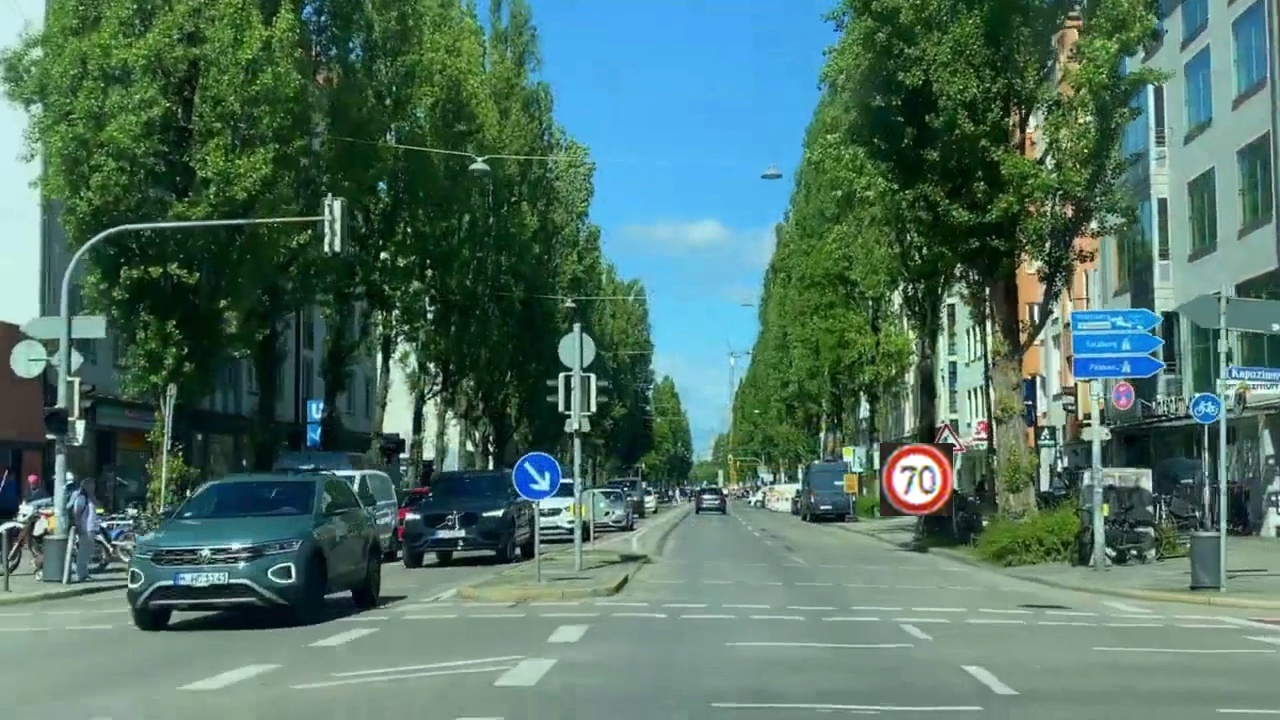Speed 70: (880, 443, 953, 516)
